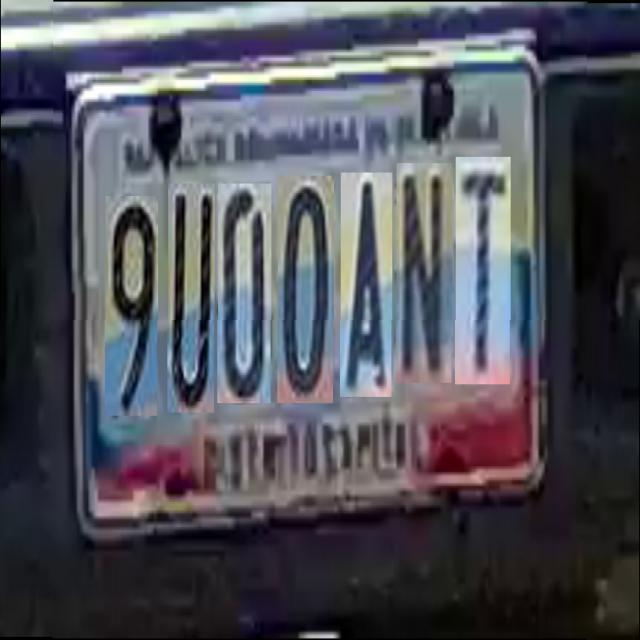0: (218, 184, 272, 404)
9: (105, 196, 158, 416)
A: (340, 172, 392, 397)
N: (397, 164, 452, 382)
O: (278, 175, 334, 404)
T: (456, 156, 510, 384)
U: (168, 184, 214, 412)
